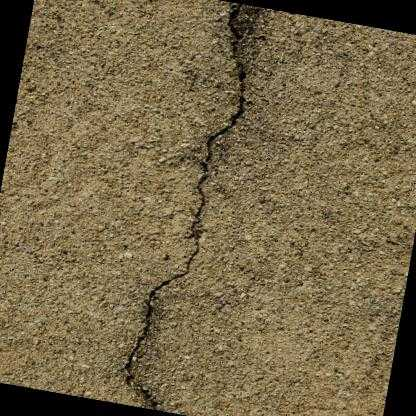crack: (118, 1, 248, 411)
